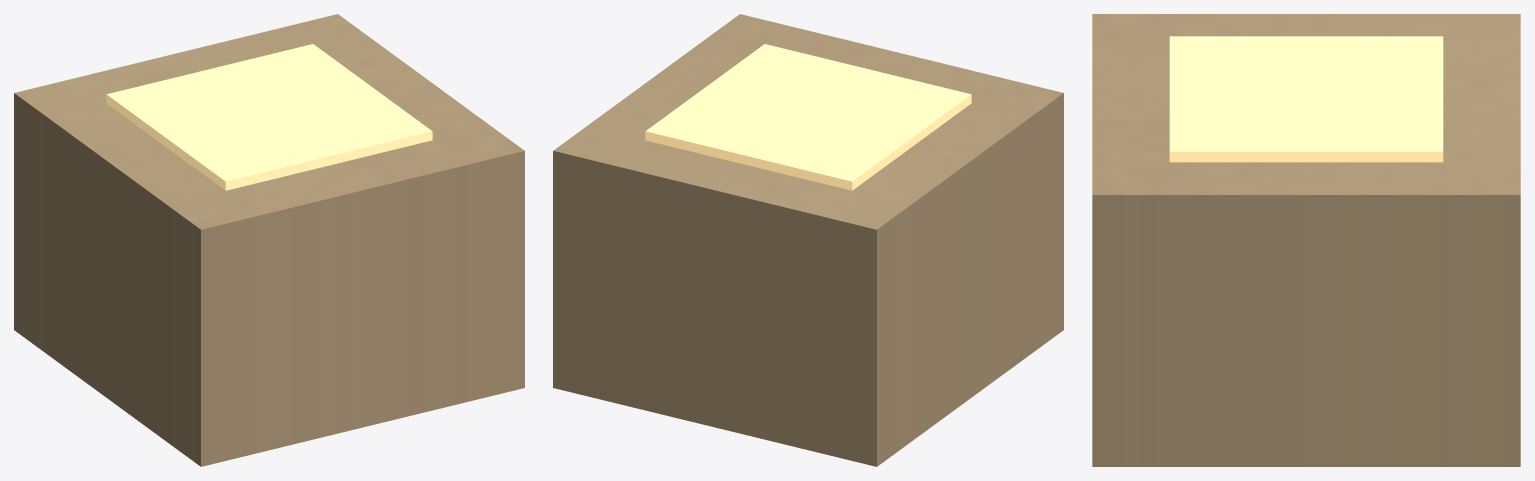
Rendered from corner_sand.glb.
The picture shows the model from 3 angles, left to right: view 1: azimuth 30°, elevation 25°; view 2: azimuth 150°, elevation 25°; view 3: azimuth 270°, elevation 25°; orthographic projection. The views are drawn at different scales.
Parts seen in each view (by area): view 1: corner_base, corner_inlay; view 2: corner_base, corner_inlay; view 3: corner_base, corner_inlay.
Part boxes in pixels (x1,y1,x2,y2): corner_base: (14,14,524,466); corner_inlay: (106,44,432,190); corner_base: (553,14,1063,466); corner_inlay: (645,44,971,190); corner_base: (1092,14,1520,466); corner_inlay: (1169,36,1443,162).
Size of the model in its own units: 0.26 by 0.189 by 0.26.
Materials: 2 (1 with a texture image).
